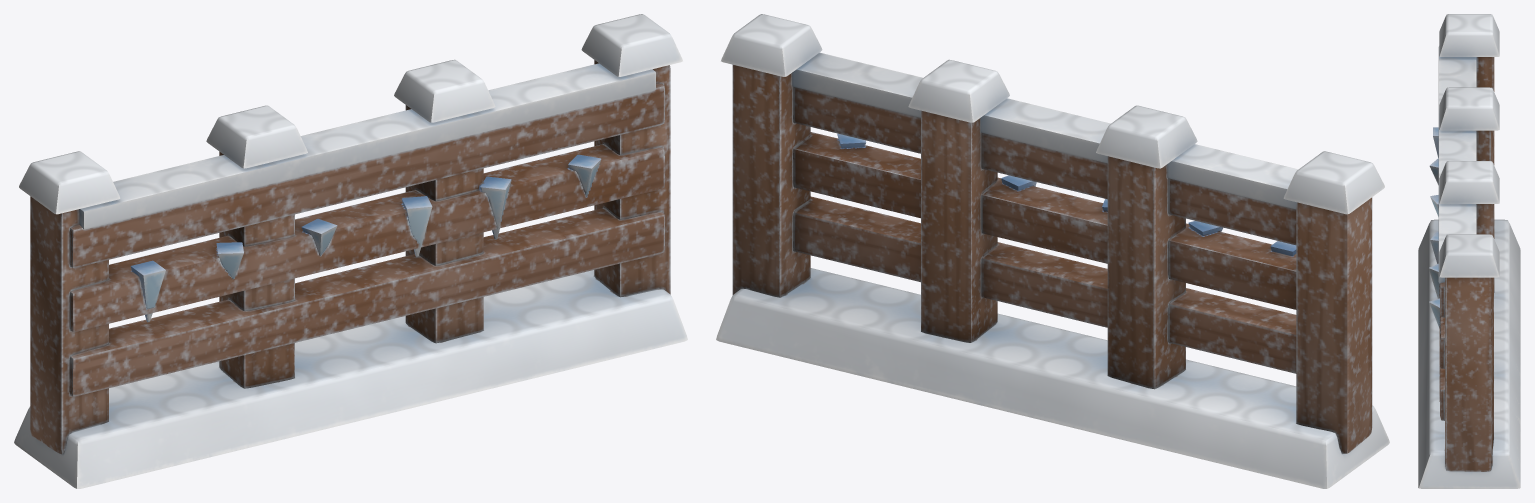
The model's file is Glace_Barriere.fbx.
3 renders of one model, left to right at view 1: azimuth 30°, elevation 25°; view 2: azimuth 150°, elevation 25°; view 3: azimuth 270°, elevation 25°, orthographic. The views are drawn at different scales.
Parts seen in each view (by area): view 1: Glace_Barriere; view 2: Glace_Barriere; view 3: Glace_Barriere.
Part boxes in pixels (<box>): Glace_Barriere: <box>14,14,687,488</box>; Glace_Barriere: <box>716,14,1389,488</box>; Glace_Barriere: <box>1418,14,1520,488</box>.
Size of the model in its own units: 1228 by 550 by 216.
1 material, 1 textured.
